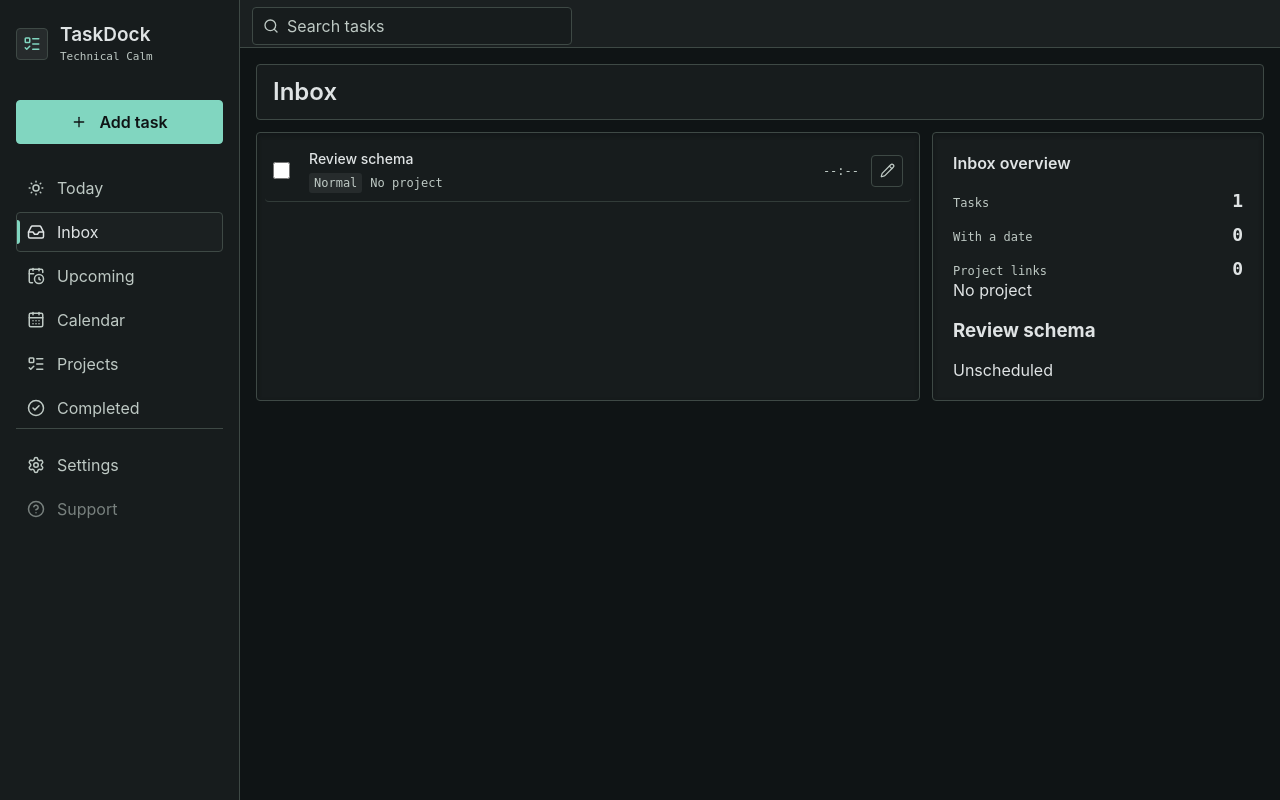
refreshes an open editor when task mutation listener registration completes late
Click the button named "Edit task Review schema" at (887, 171), box [871, 155, 903, 187]
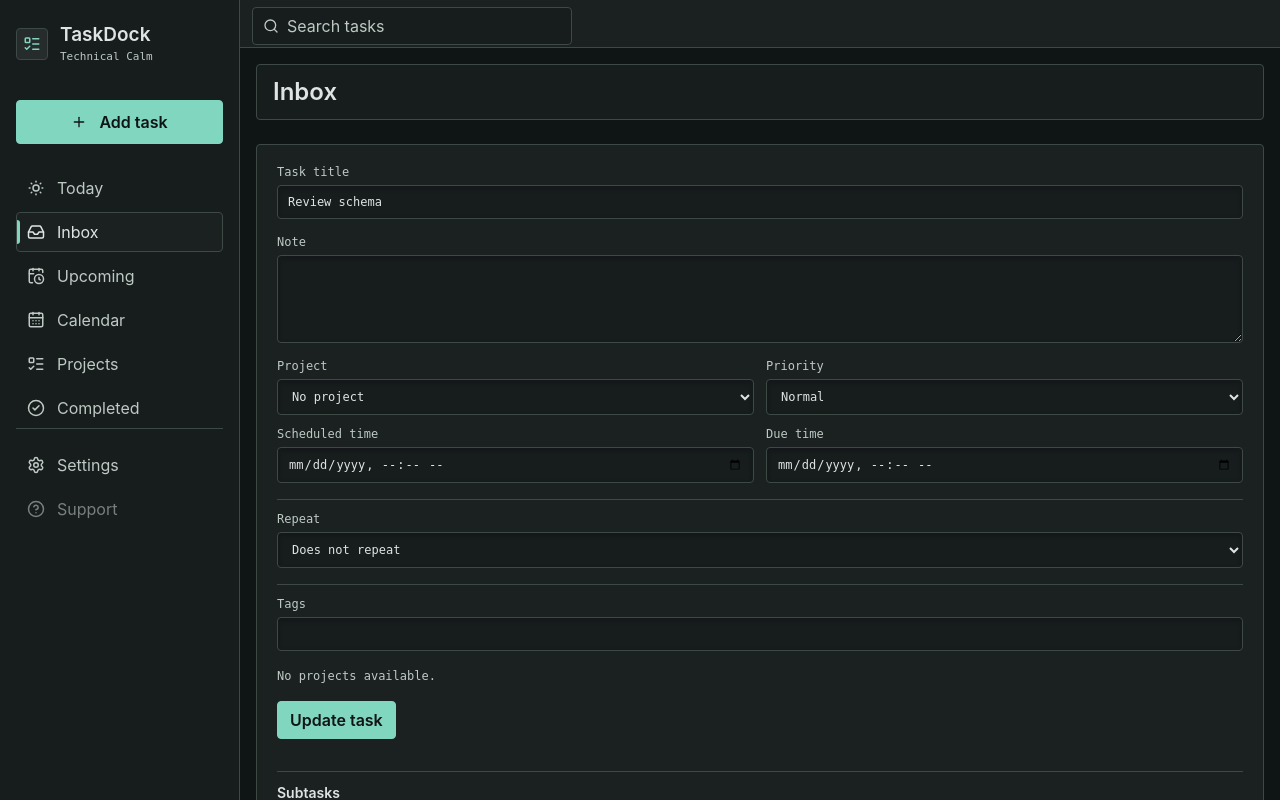
Expected: the field showing "Review schema" is shown, [277, 185, 1243, 219]
